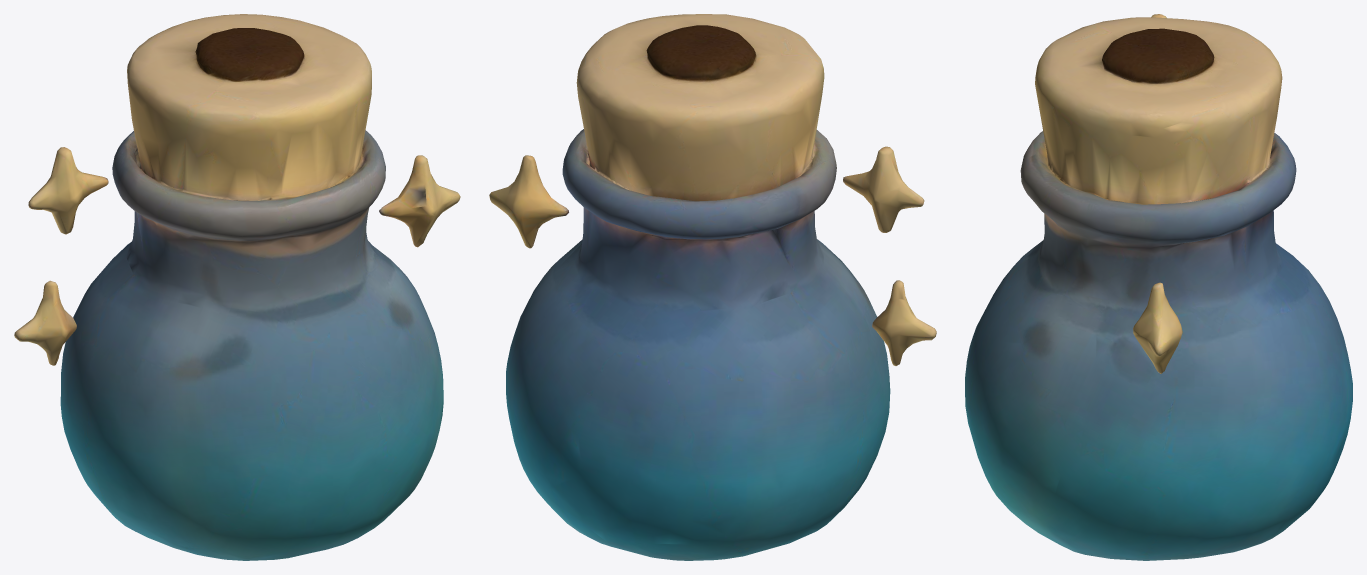
File: item-aim-powder.glb
3 renders of one model, left to right at view 1: azimuth 30°, elevation 25°; view 2: azimuth 150°, elevation 25°; view 3: azimuth 270°, elevation 25°, orthographic.
Parts seen in each view (by area): view 1: Mesh_0; view 2: Mesh_0; view 3: Mesh_0.
Part boxes in pixels (<box>): Mesh_0: <box>14,14,460,560</box>; Mesh_0: <box>489,14,936,560</box>; Mesh_0: <box>965,14,1352,560</box>.
Bounding box in the file's own units: 1.97 × 2 × 1.49.
Materials: 1 (1 with a texture image).
